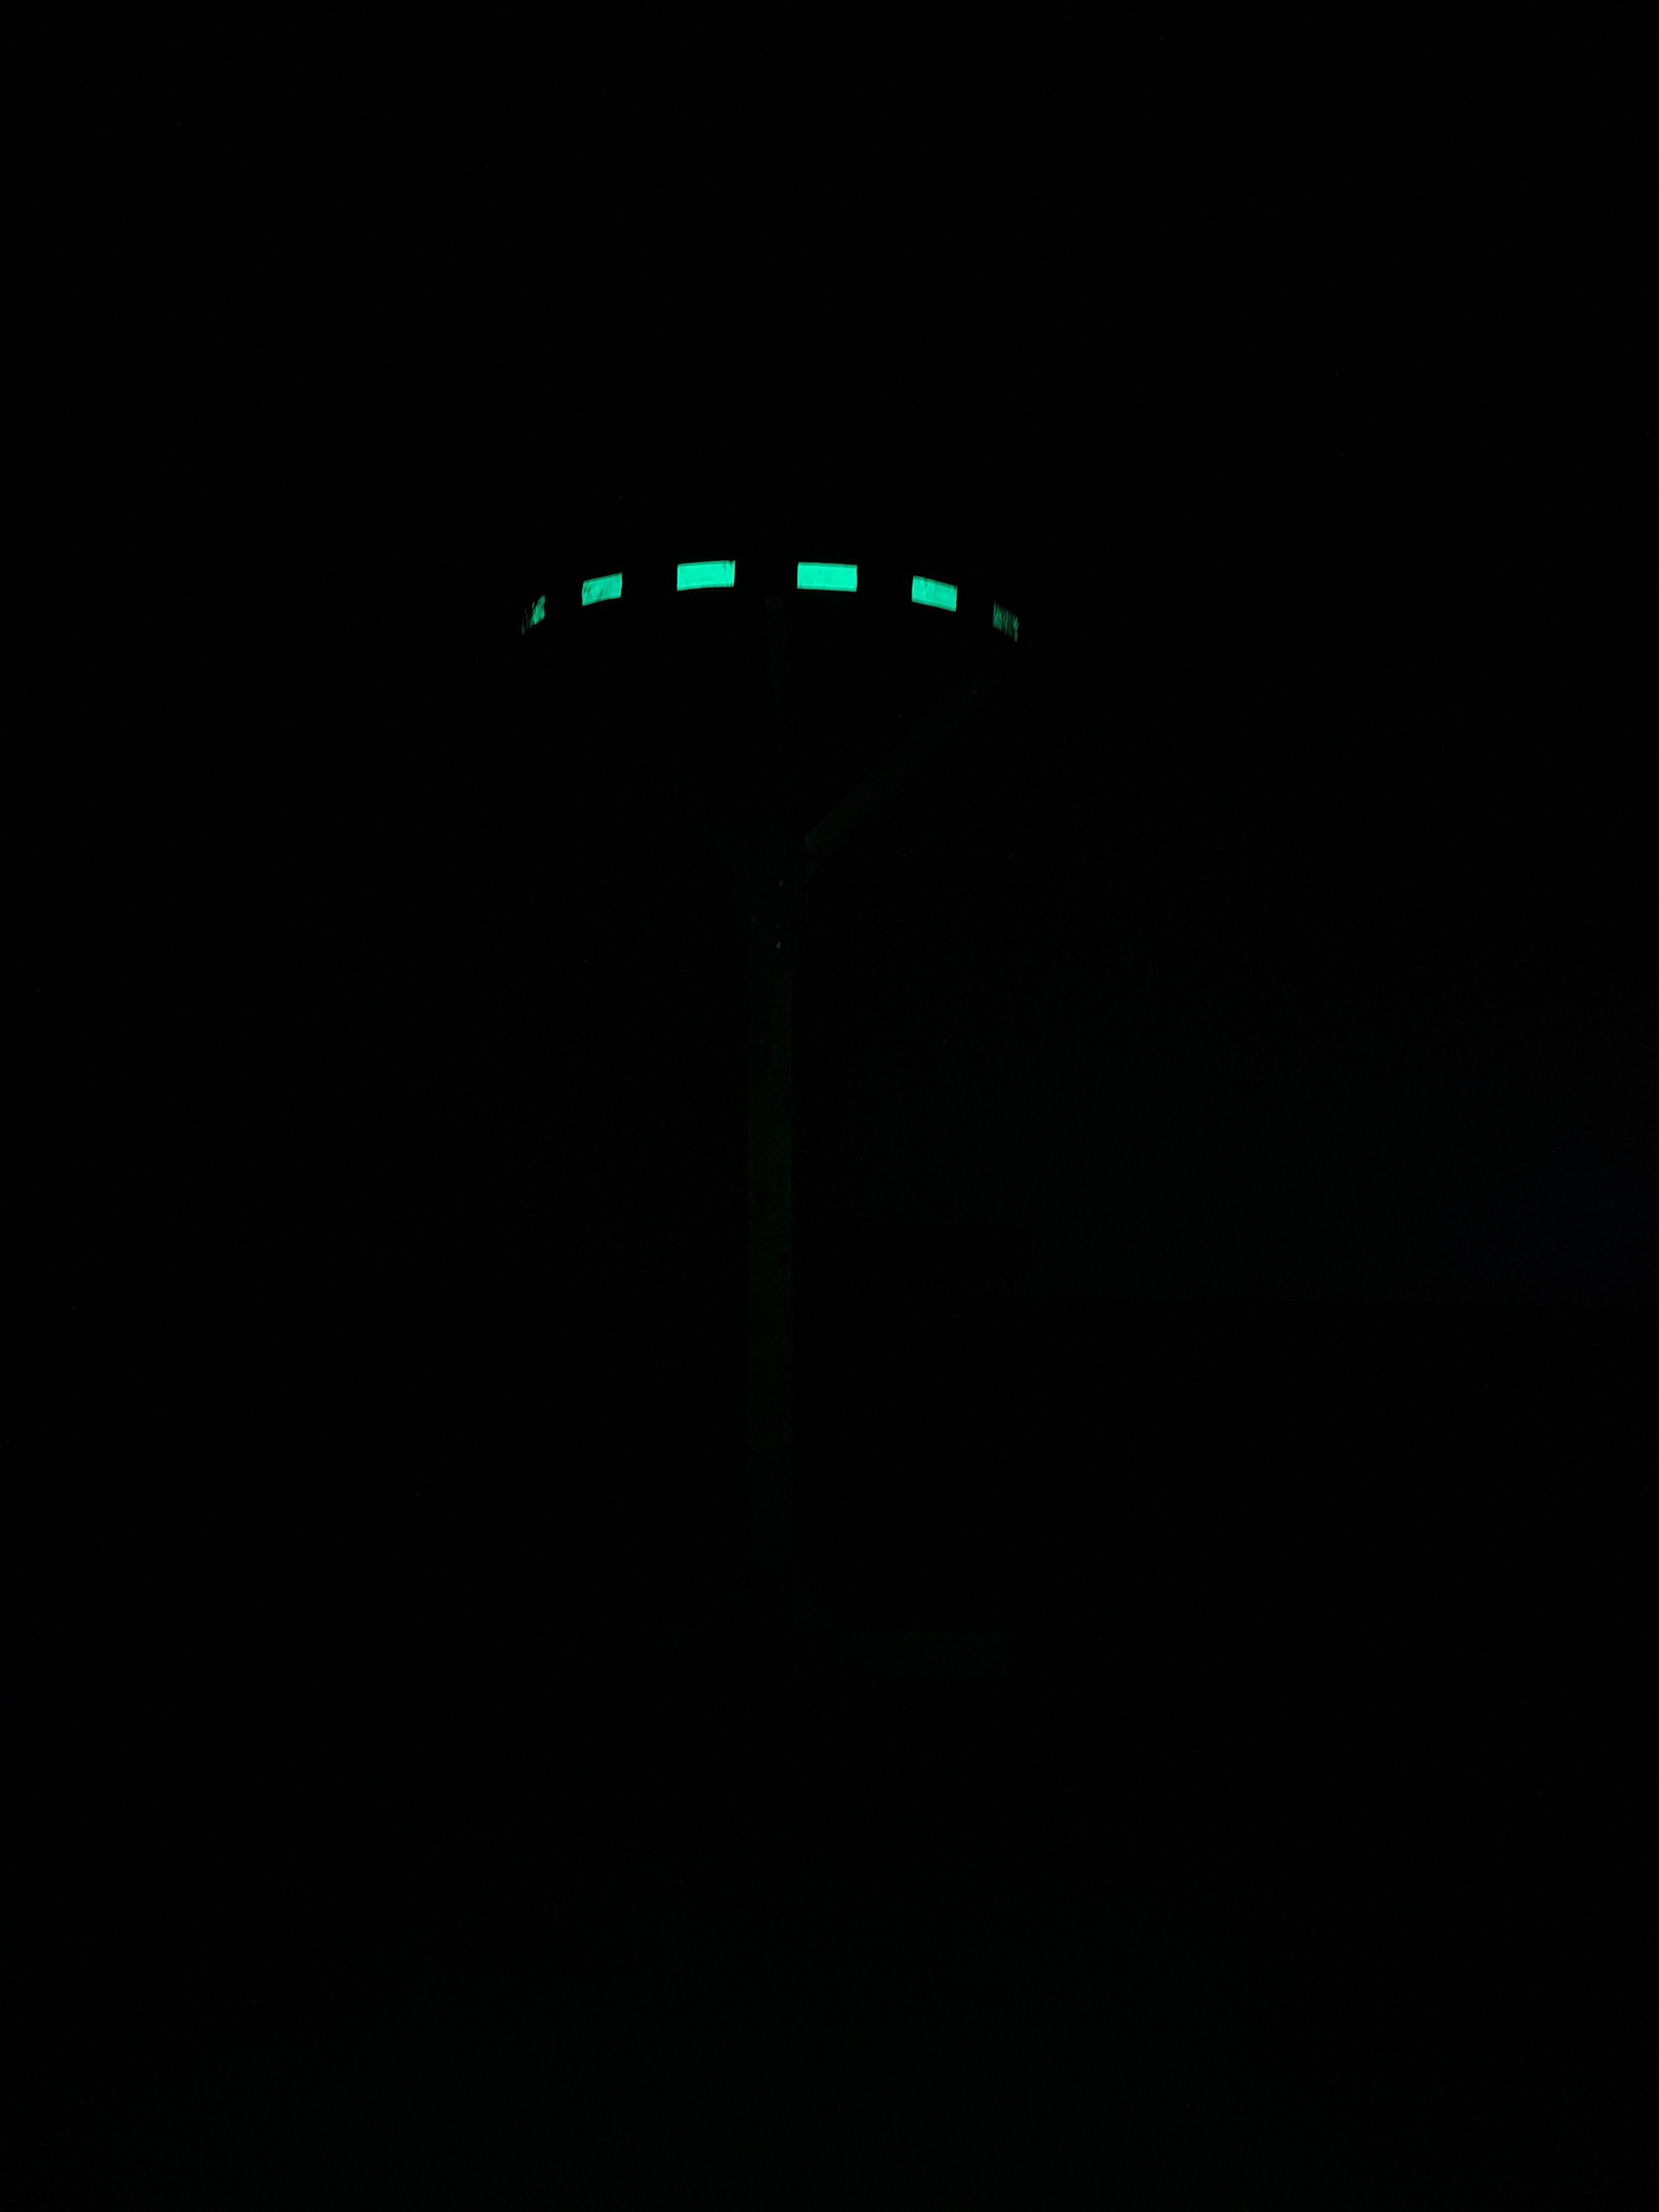hoop: (518, 550, 1032, 658)
